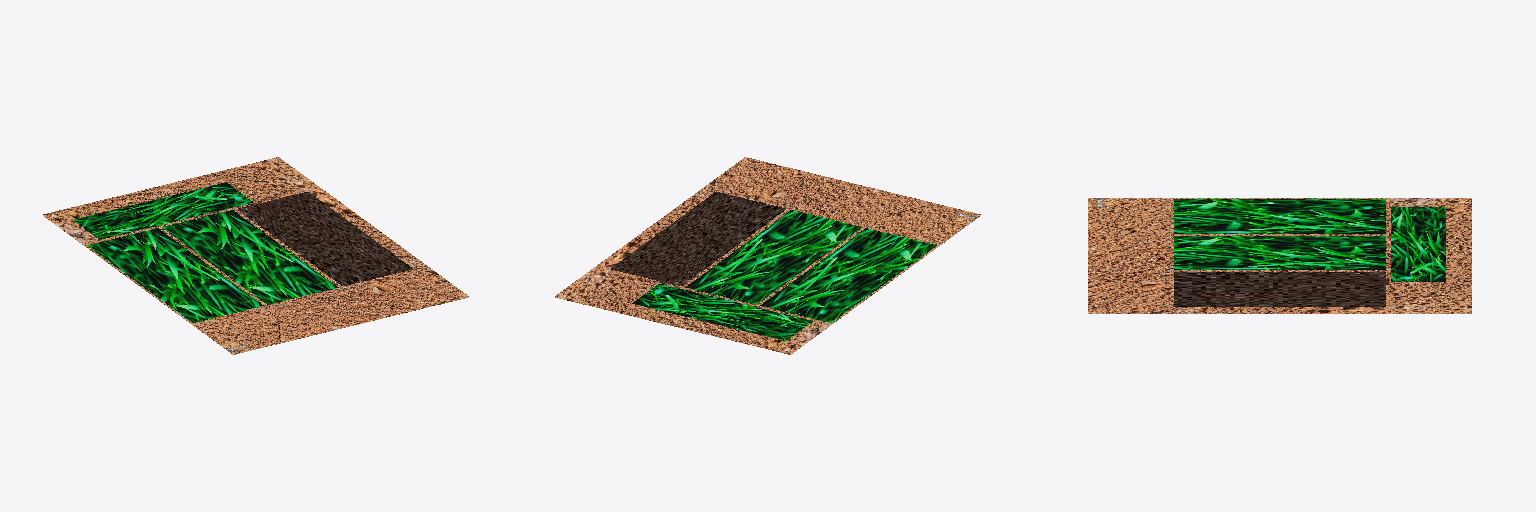
3 renders of one model, left to right at view 1: azimuth 30°, elevation 25°; view 2: azimuth 150°, elevation 25°; view 3: azimuth 270°, elevation 25°, orthographic.
Visible parts, largest first — view 1: Plane, Cube, Cube.003, Cube.001, Cube.002; view 2: Plane, Cube, Cube.003, Cube.001, Cube.002; view 3: Plane, Cube, Cube.001, Cube.003, Cube.002.
Part boxes in pixels (x1,y1,x2,y2): Plane: (43, 157, 468, 354); Cube: (87, 228, 263, 322); Cube.003: (162, 210, 338, 304); Cube.001: (238, 192, 412, 285); Cube.002: (73, 182, 252, 239); Plane: (555, 157, 980, 354); Cube: (760, 228, 936, 322); Cube.003: (685, 210, 861, 304); Cube.001: (611, 192, 785, 285); Cube.002: (632, 284, 812, 340); Plane: (1088, 198, 1471, 313); Cube: (1174, 199, 1385, 233); Cube.001: (1174, 272, 1385, 306); Cube.003: (1174, 236, 1385, 269); Cube.002: (1391, 207, 1445, 281).
Size of the model in its own units: 2000 by 2 by 2800.
5 materials, 3 textured.